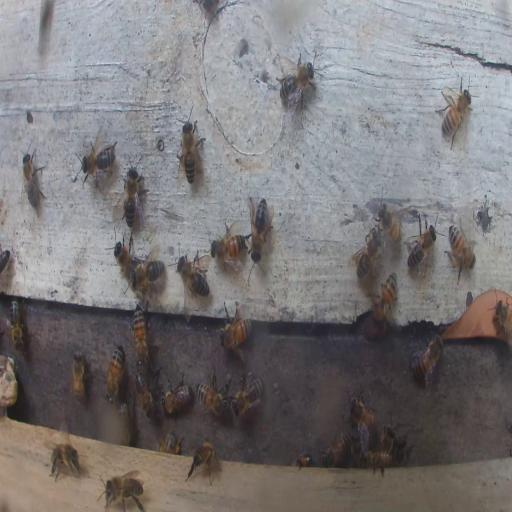bee: (276, 50, 318, 112), (438, 82, 473, 144), (404, 215, 440, 274), (176, 111, 204, 186), (77, 139, 119, 188), (409, 334, 444, 390), (446, 218, 476, 283), (176, 250, 211, 301), (350, 227, 383, 279), (104, 472, 146, 512), (247, 195, 272, 259), (374, 195, 403, 247), (20, 147, 44, 209), (370, 273, 398, 326), (187, 440, 220, 484), (123, 160, 144, 229), (232, 372, 263, 418), (50, 438, 80, 482), (104, 344, 126, 404), (210, 230, 248, 264), (218, 314, 251, 350), (131, 256, 164, 292), (320, 430, 352, 467), (350, 392, 374, 438), (198, 378, 227, 416), (162, 378, 192, 414), (132, 304, 148, 367), (136, 363, 154, 416), (113, 235, 135, 278), (492, 300, 512, 338), (72, 350, 86, 404), (10, 299, 24, 349), (365, 448, 394, 472), (393, 432, 412, 465), (158, 432, 181, 454), (118, 403, 130, 443), (351, 432, 365, 464), (381, 426, 394, 453), (0, 250, 10, 278), (296, 455, 314, 467)
